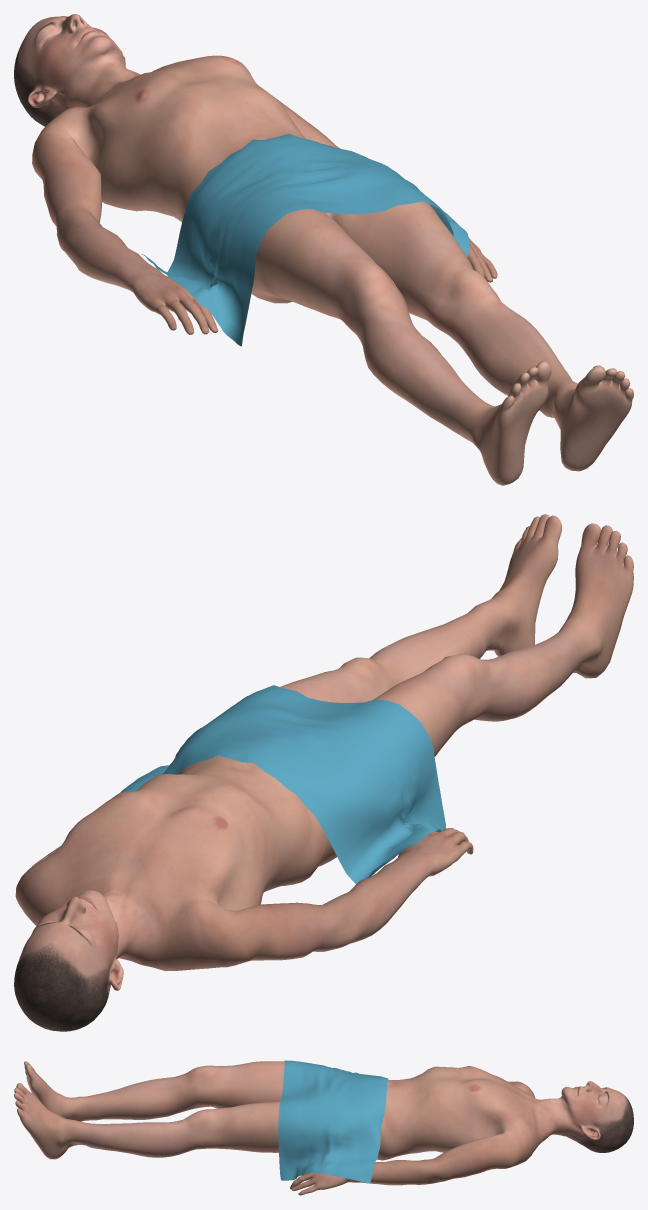
File: patient.glb
3 renders of one model, top to bottom at view 1: azimuth 30°, elevation 25°; view 2: azimuth 150°, elevation 25°; view 3: azimuth 270°, elevation 25°, orthographic. The views are drawn at different scales.
Parts seen in each view (by area): view 1: Body, Serviette; view 2: Body, Serviette; view 3: Body, Serviette.
Boxes of the visible parts, bbox=[...] form: Body: bbox=[14, 14, 633, 485]; Serviette: bbox=[142, 133, 469, 346]; Body: bbox=[14, 514, 633, 1031]; Serviette: bbox=[120, 685, 445, 883]; Body: bbox=[14, 1061, 633, 1195]; Serviette: bbox=[278, 1060, 388, 1183].
Size of the model in its own units: 64.25 by 26.97 by 186.
2 materials, 1 textured.
